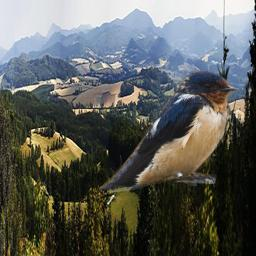Swallow: (99, 69, 239, 193)
